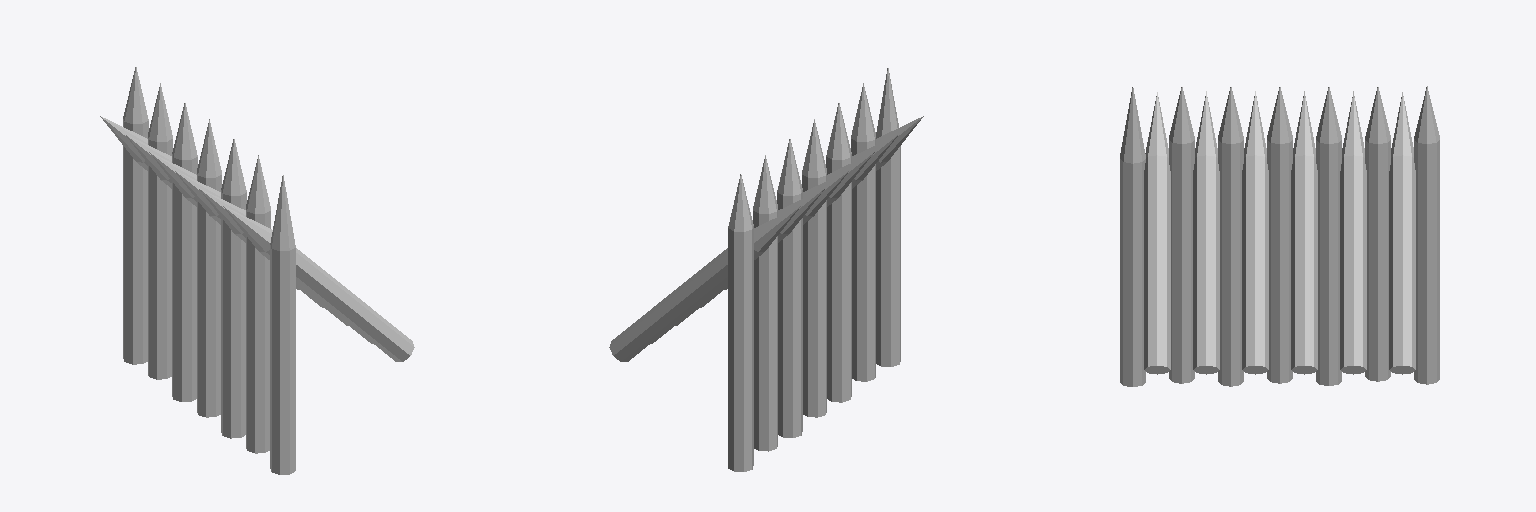
File: stockade.obj
3 views of the same model, side by side, from view 1: azimuth 30°, elevation 25°; view 2: azimuth 150°, elevation 25°; view 3: azimuth 270°, elevation 25° (orthographic).
Visible parts, largest first — view 1: Cylinder; view 2: Cylinder; view 3: Cylinder.
Boxes of the visible parts, <box> form: Cylinder: <box>100,67,414,474</box>; Cylinder: <box>609,68,923,471</box>; Cylinder: <box>1120,86,1439,386</box>.
Size of the model in its own units: 4.47 by 6.68 by 6.54.